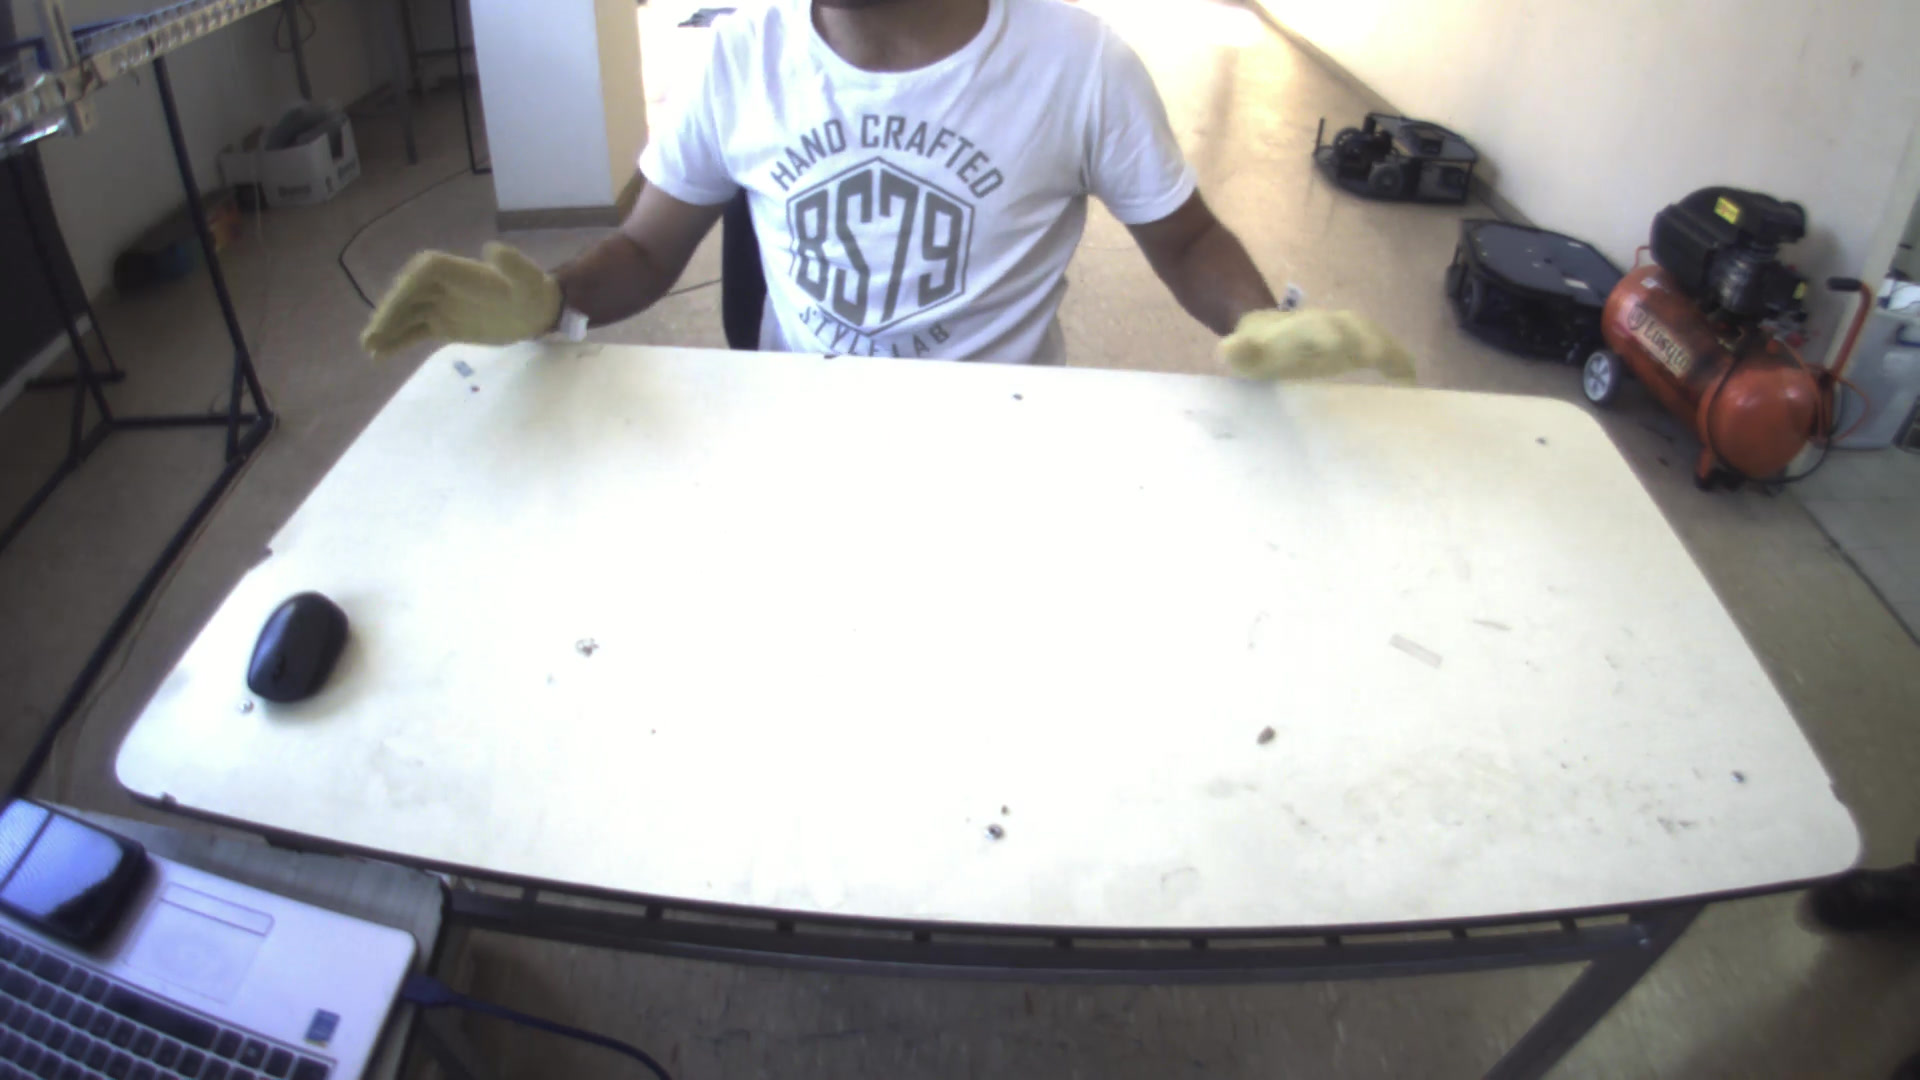hand: (343, 223, 559, 371), (1211, 298, 1418, 404)
